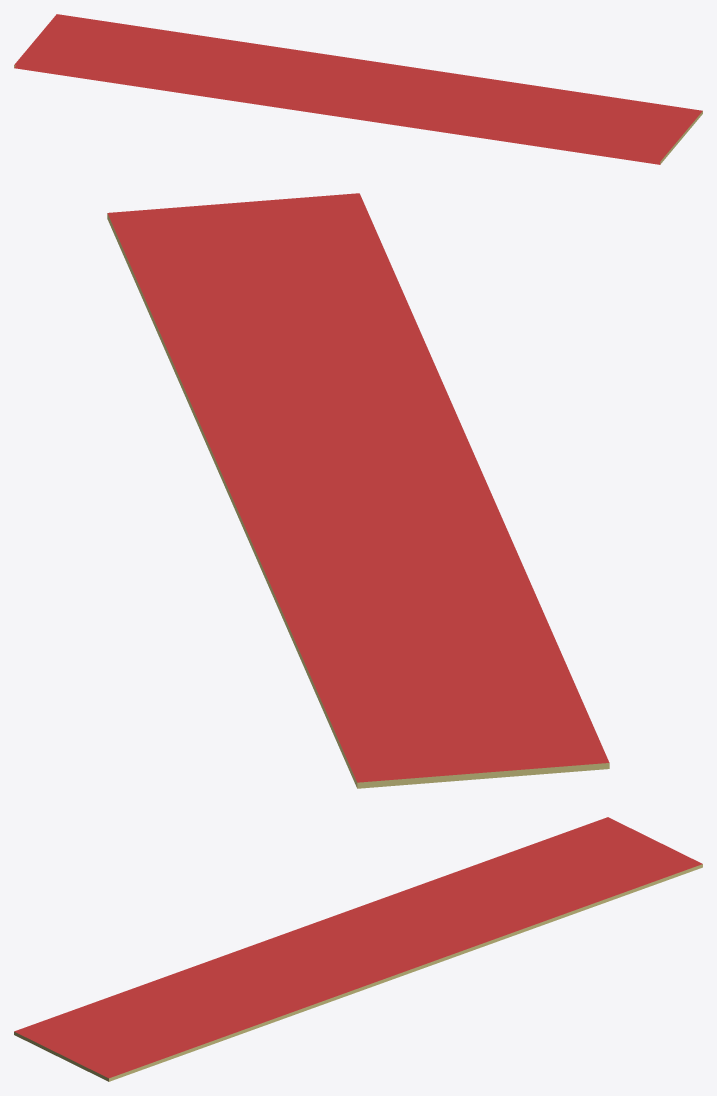
3 views of the same model, one above another, from view 1: azimuth 30°, elevation 25°; view 2: azimuth 150°, elevation 25°; view 3: azimuth 270°, elevation 25° (orthographic). The views are drawn at different scales.
Size of the model in its own units: 16.04 by 17.86 by 0.1.
